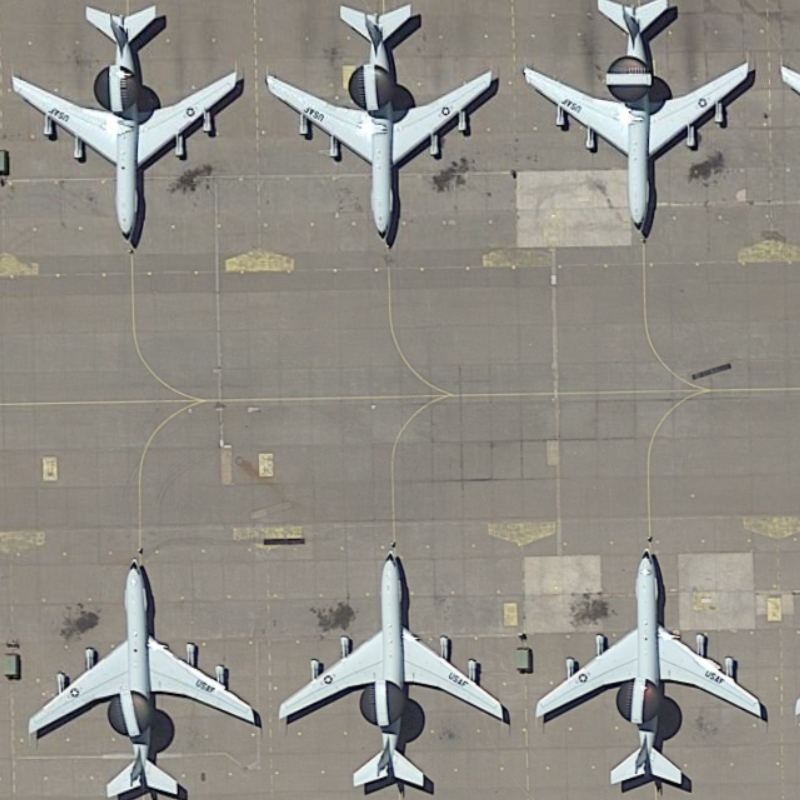A7: (276, 538, 520, 794), (531, 545, 777, 793), (263, 1, 504, 247), (27, 554, 260, 797), (12, 2, 243, 244), (521, 6, 756, 239)
